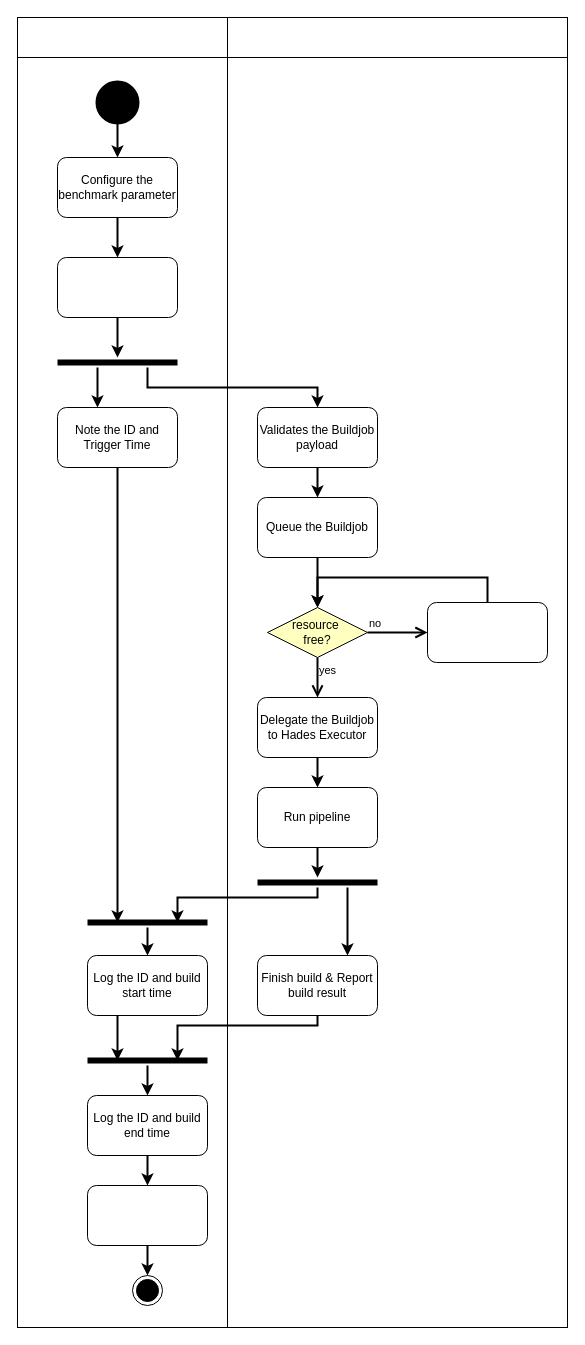
The diagram is 585 pixels wide and 1345 high, and some of its shapes have lost their labels. Here are the shapes that lost their labels. From the top down, the centre of each, then its label:
At (122,37): "CI-Benchmarker".
At (397,37): "Hades".
At (117,287): "Trigger benchmark".
At (487,632): "Wait for free resource".
At (147,1215): "Generate Metrics report".
